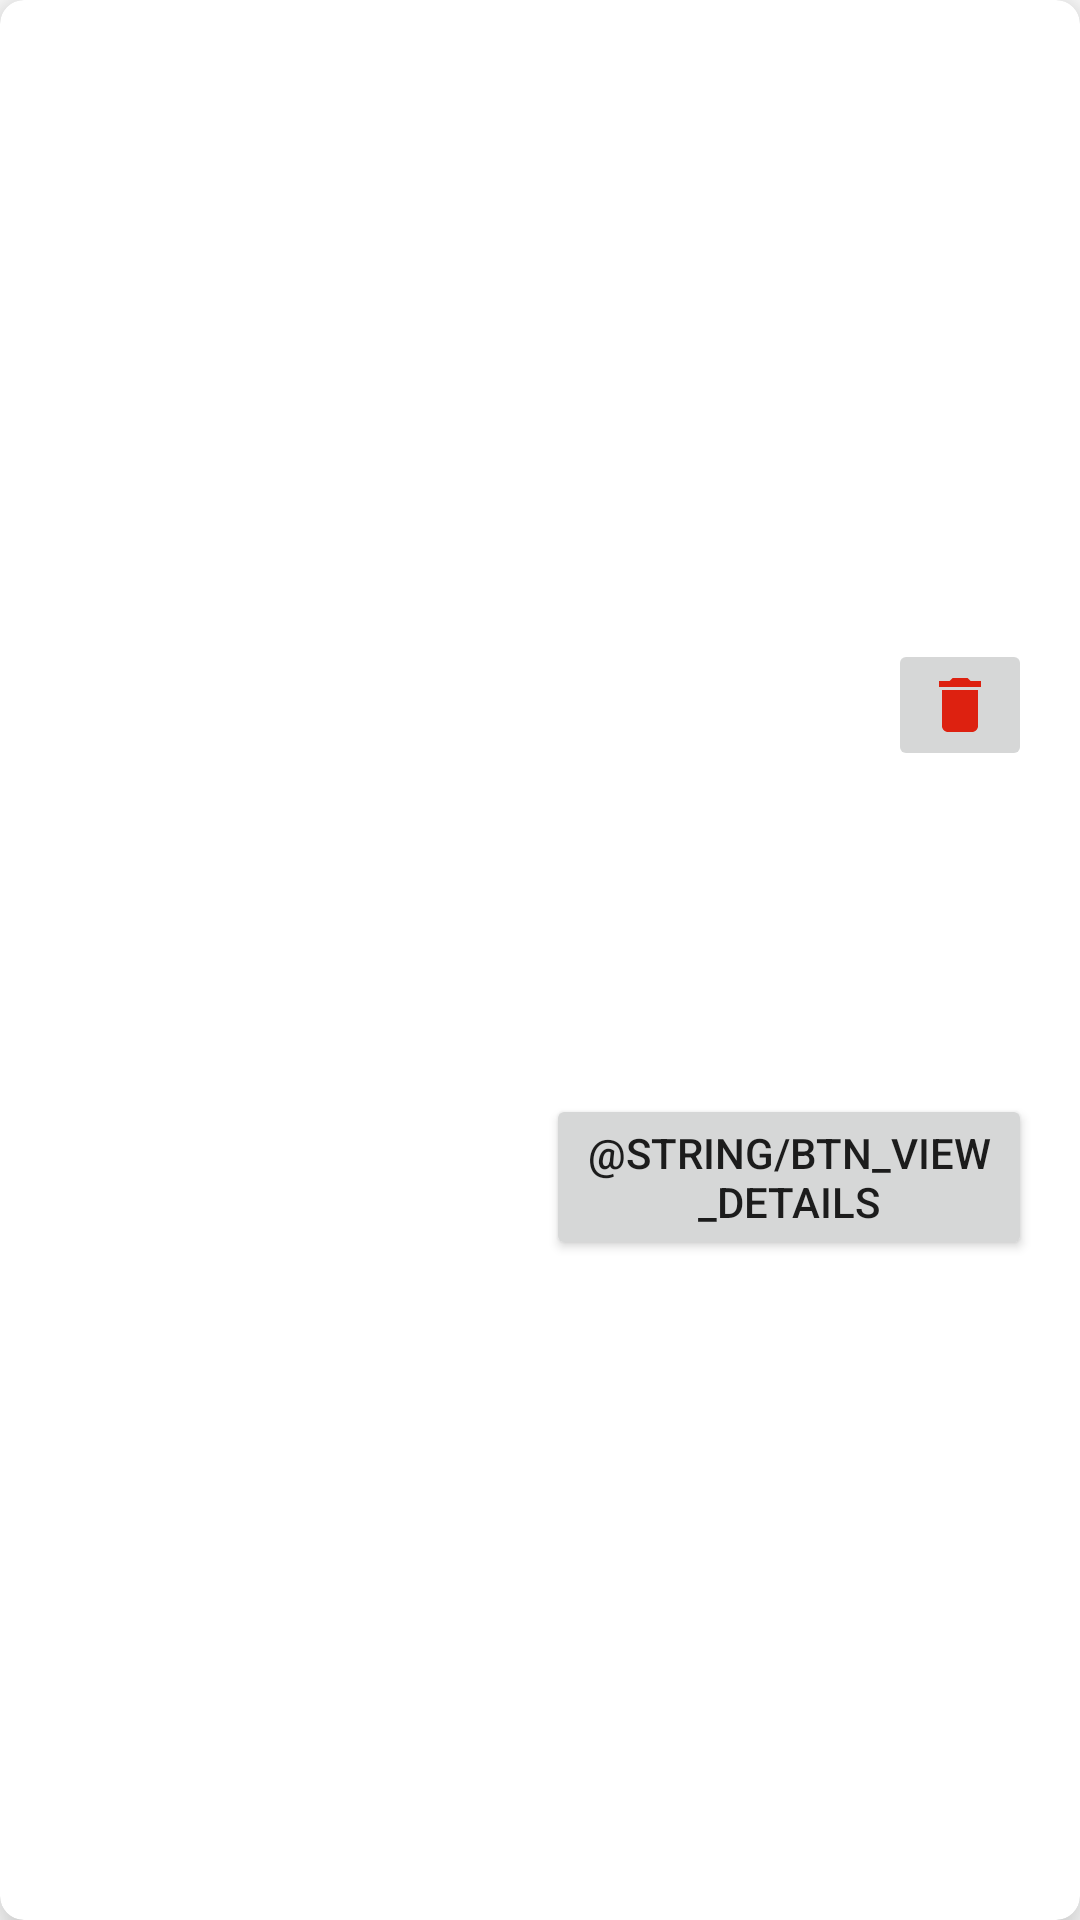

Where to tap for icons on this 1080x1920 app screen, as [x,y]:
delete: [960,705]
